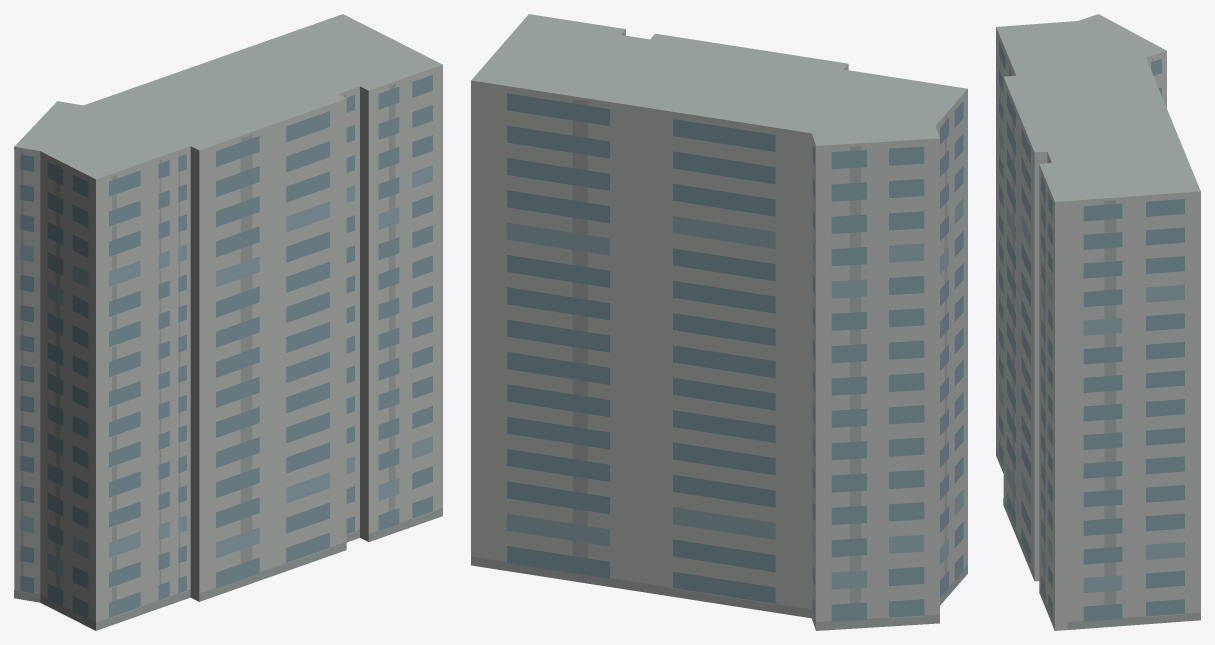
The model's file is residential-5f82349c-c3eb-4d97-9ef1-f0e453c3c554.glb.
3 renders of one model, left to right at view 1: azimuth 30°, elevation 25°; view 2: azimuth 150°, elevation 25°; view 3: azimuth 270°, elevation 25°, orthographic. The views are drawn at different scales.
Visible parts, largest first — view 1: residential-5f82349c-c3eb-4d97-9ef1-f0e453c3c554.tmp; view 2: residential-5f82349c-c3eb-4d97-9ef1-f0e453c3c554.tmp; view 3: residential-5f82349c-c3eb-4d97-9ef1-f0e453c3c554.tmp.
Part boxes in pixels (x1,y1,x2,y2): residential-5f82349c-c3eb-4d97-9ef1-f0e453c3c554.tmp: (14, 14, 442, 630); residential-5f82349c-c3eb-4d97-9ef1-f0e453c3c554.tmp: (471, 14, 967, 630); residential-5f82349c-c3eb-4d97-9ef1-f0e453c3c554.tmp: (996, 14, 1200, 630).
Bounding box in the file's own units: 37.61 × 40 × 17.31.
